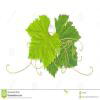grape leaf: (24, 14, 61, 70)
